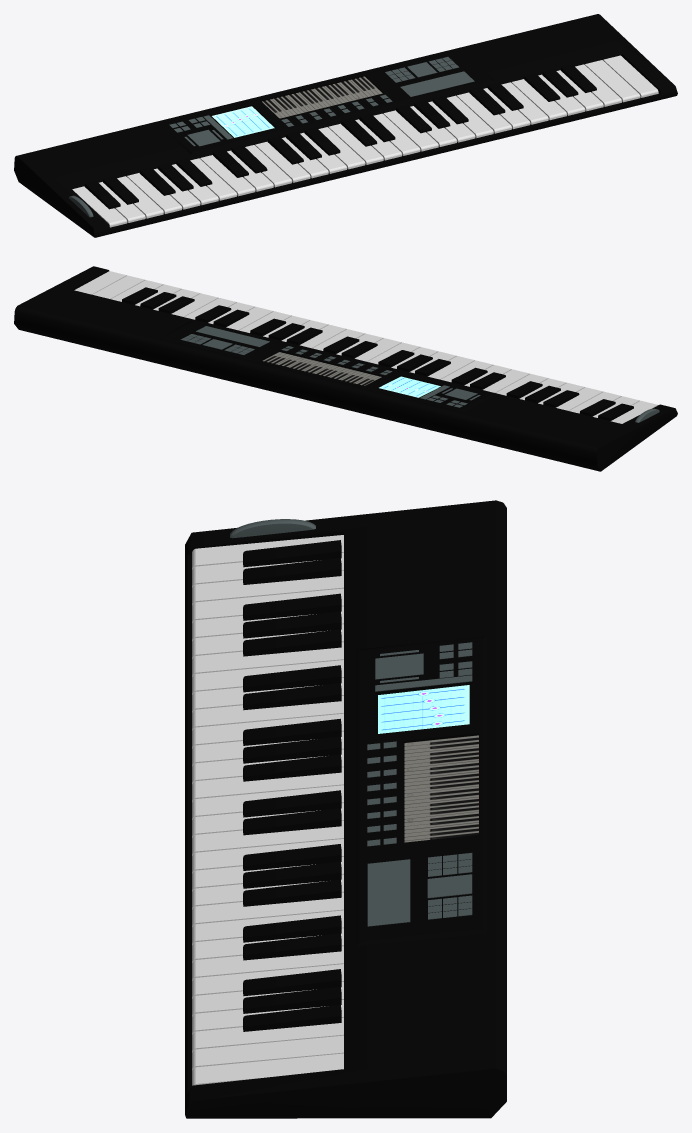
The model's file is piano.glb.
The picture shows the model from 3 angles, top to bottom: view 1: azimuth 30°, elevation 25°; view 2: azimuth 150°, elevation 25°; view 3: azimuth 270°, elevation 25°; orthographic projection. The views are drawn at different scales.
Parts seen in each view (by area): view 1: основа, калвишы не блек лайвз метр, жихни чорных важны, кнопачки, миди клавиш, эквалайзер; view 2: основа, калвишы не блек лайвз метр, жихни чорных важны, кнопачки, миди клавиш, эквалайзер; view 3: основа, калвишы не блек лайвз метр, жихни чорных важны, кнопачки, миди клавиш, эквалайзер, хуилка крутилка.
Part boxes in pixels (x1,y1,x2,y2): основа: (14,14,677,237); калвишы не блек лайвз метр: (72,55,658,227); жихни чорных важны: (84,64,596,209); кнопачки: (169,57,474,146); миди клавиш: (262,76,382,118); эквалайзер: (212,106,274,137); основа: (14,266,677,471); калвишы не блек лайвз метр: (74,271,658,423); жихни чорных важны: (122,287,633,420); кнопачки: (180,326,480,407); миди клавиш: (263,352,381,385); эквалайзер: (379,376,440,397); основа: (185,500,506,1118); калвишы не блек лайвз метр: (192,535,343,1085); жихни чорных важны: (243,540,341,1031); кнопачки: (367,642,472,926); миди клавиш: (403,735,478,842); эквалайзер: (378,685,469,733); хуилка крутилка: (230,519,315,538).
Bounding box in the file's own units: 2.67 × 0.1152 × 0.6392.
6 materials, 2 textured.
